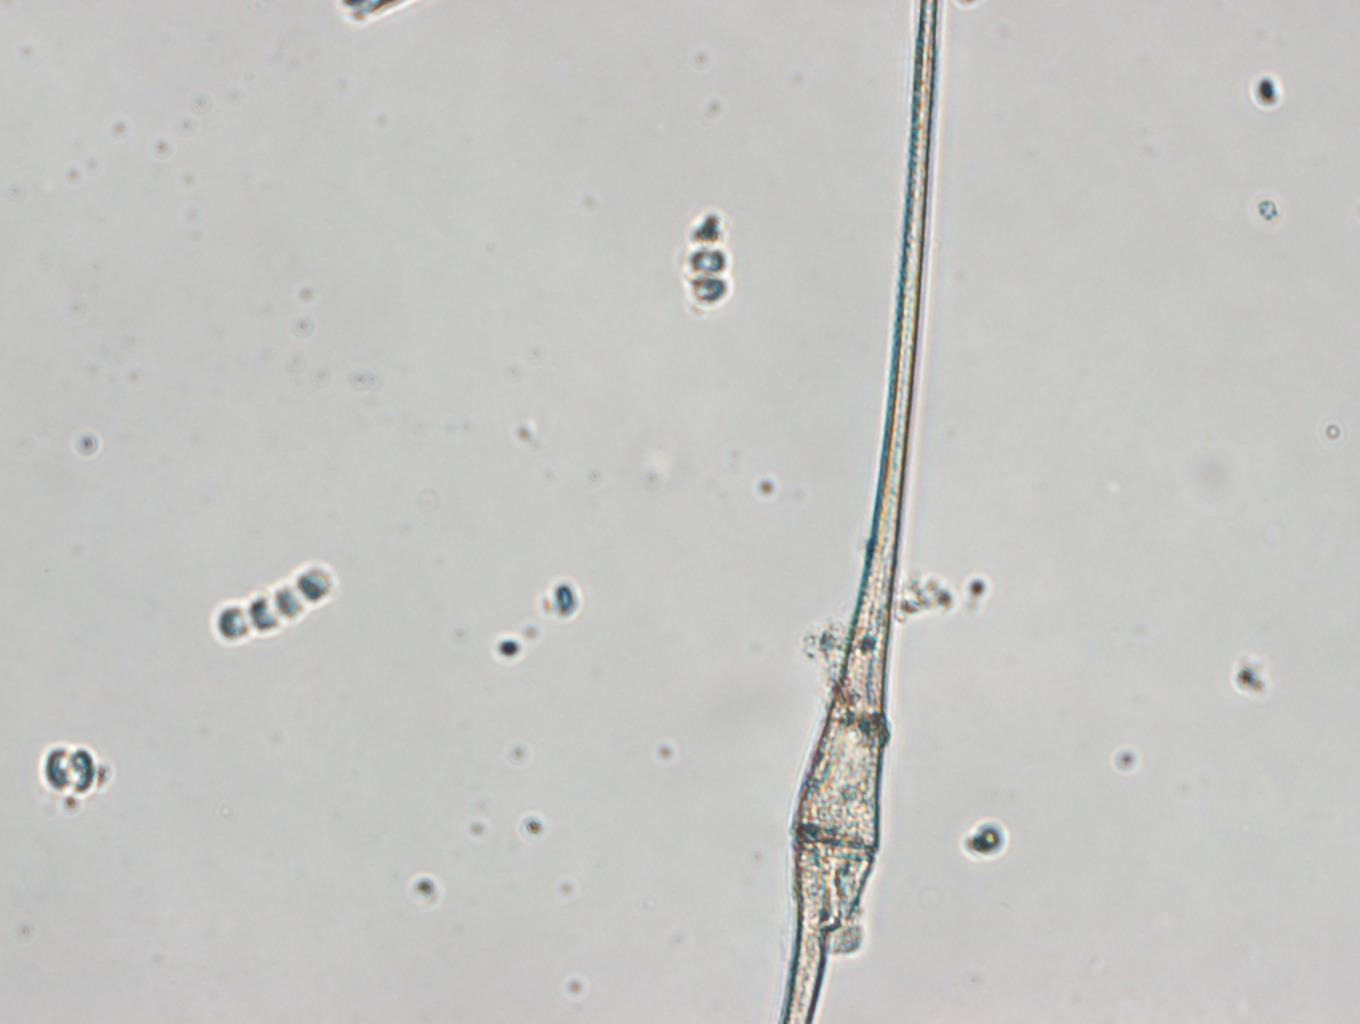ceratium fusus: (779, 1, 942, 1024)
skeletonema: (682, 211, 732, 310)
